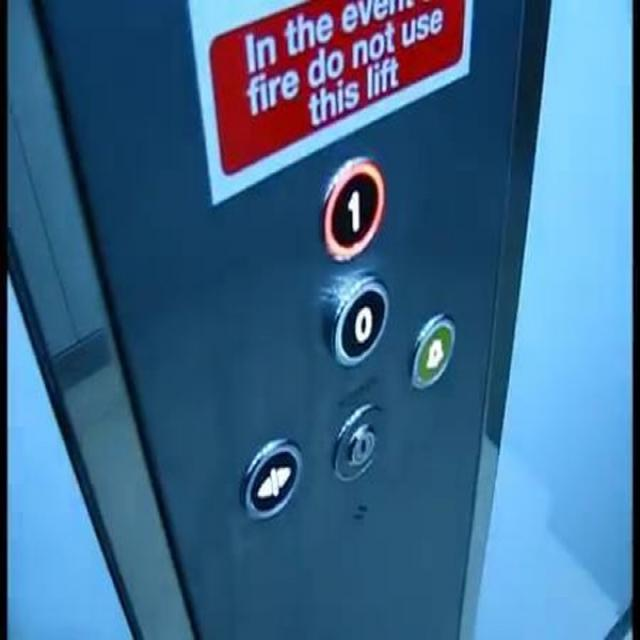0: (319, 268, 388, 367)
1: (319, 152, 385, 263)
alarm: (406, 311, 456, 388)
keyhole: (328, 398, 385, 478)
open: (239, 435, 305, 517)
